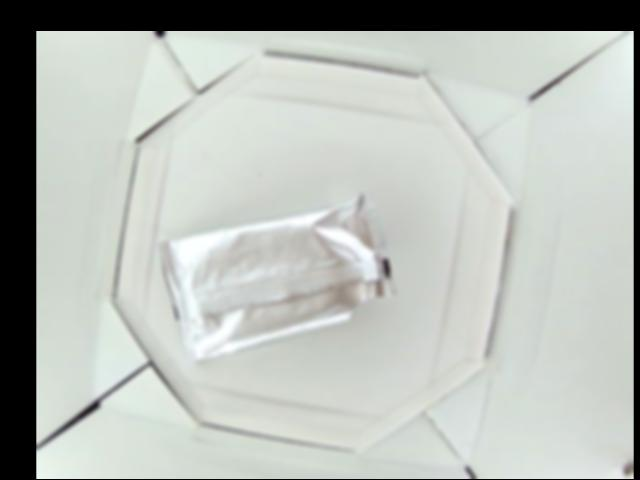Medicine: (161, 191, 398, 363)
